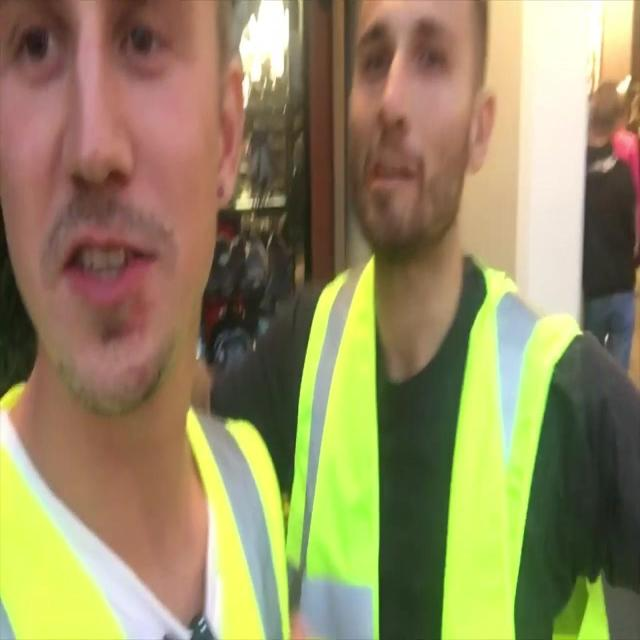Vest: (284, 241, 584, 639), (1, 377, 292, 638)
